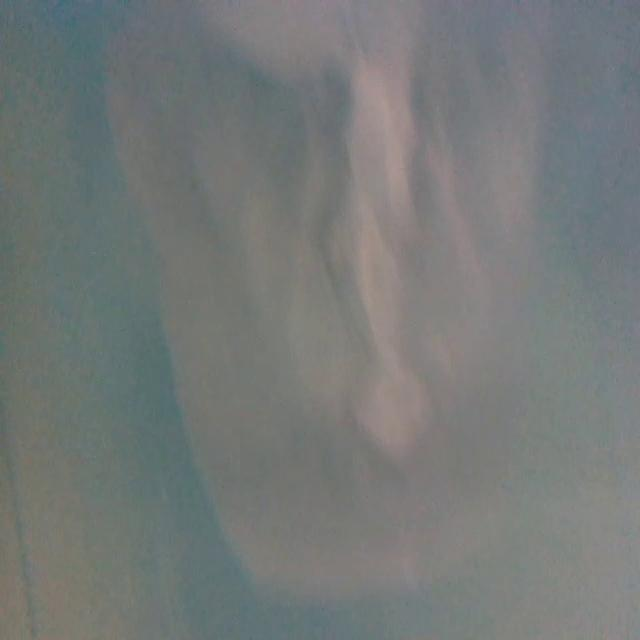plastic bags: (118, 0, 508, 575)
